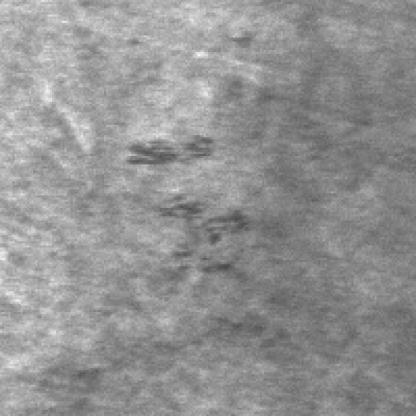rolled-in_scale: (154, 177, 276, 331), (129, 127, 221, 168)
